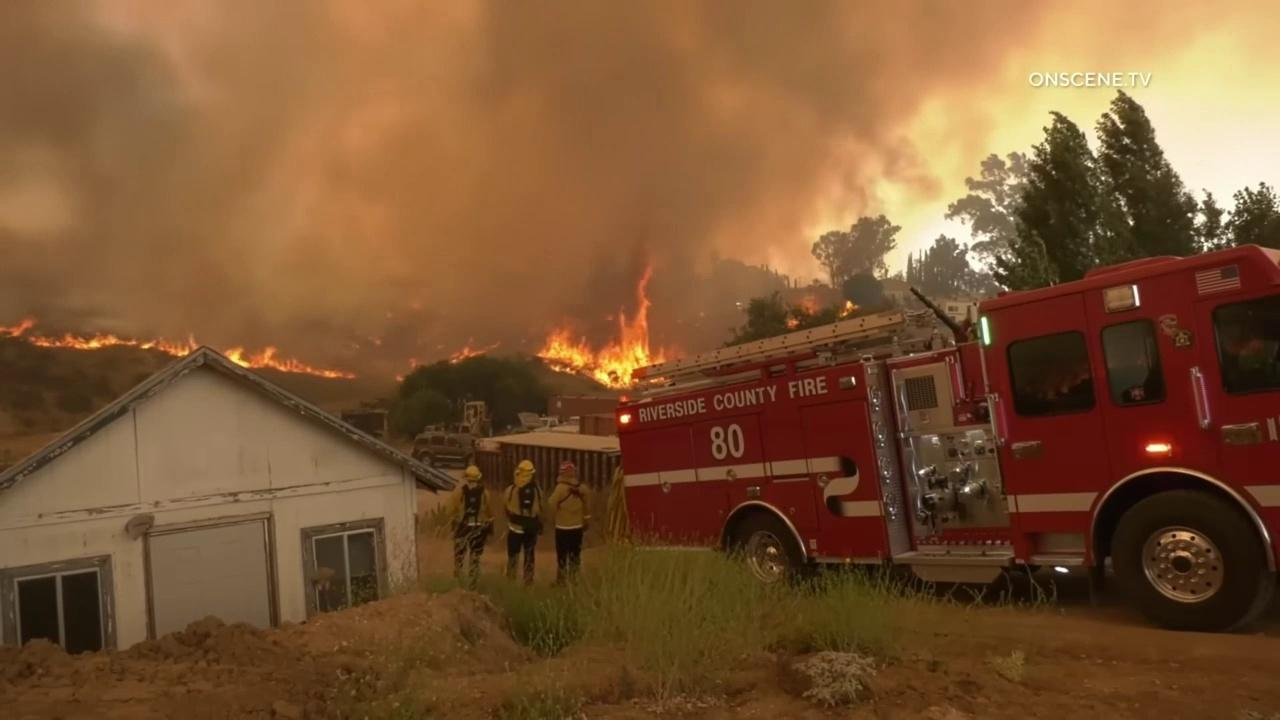fire: (536, 254, 676, 391), (0, 317, 202, 357), (222, 344, 358, 380), (450, 336, 487, 366), (798, 295, 820, 317), (840, 299, 859, 321), (786, 316, 801, 331), (408, 357, 417, 371), (394, 375, 406, 383)
smoke: (0, 0, 1280, 345)
